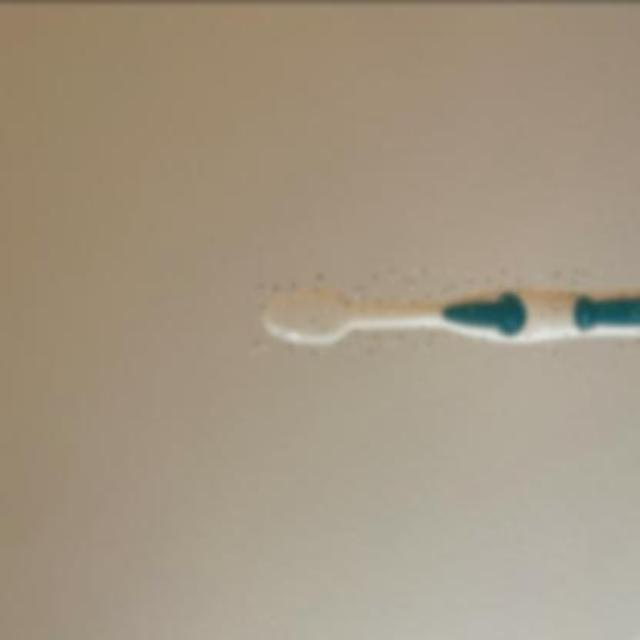toothbrush: (252, 270, 640, 354)
